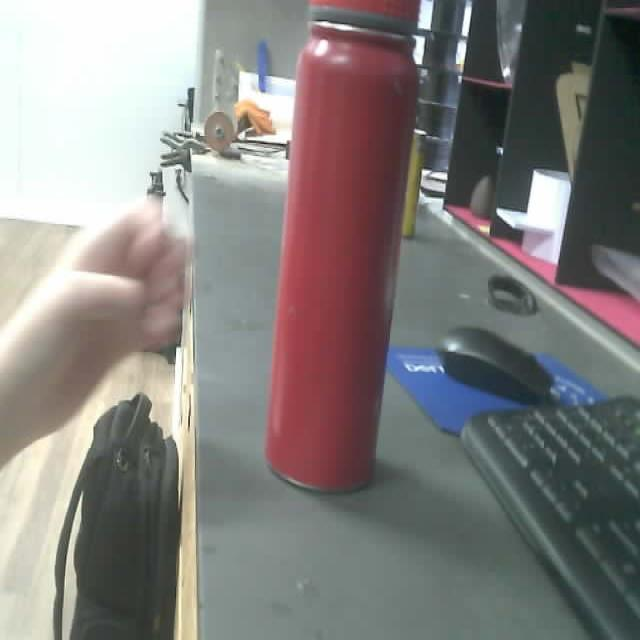water bottle: (264, 0, 423, 493)
